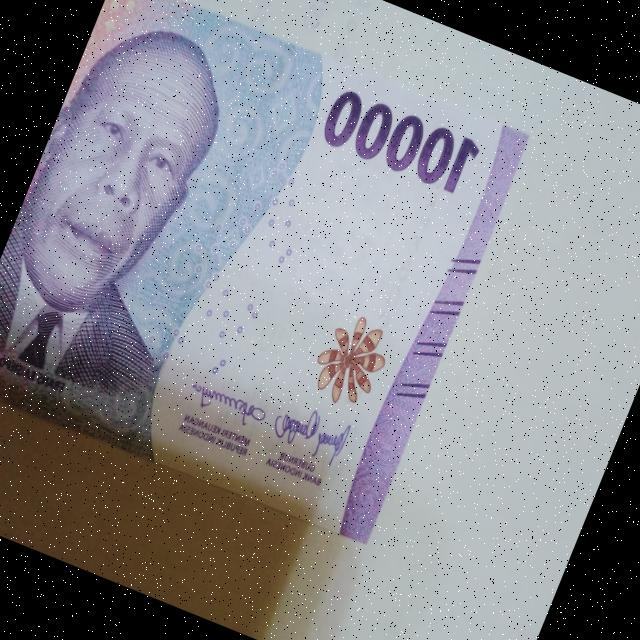10K: (0, 0, 543, 562)
